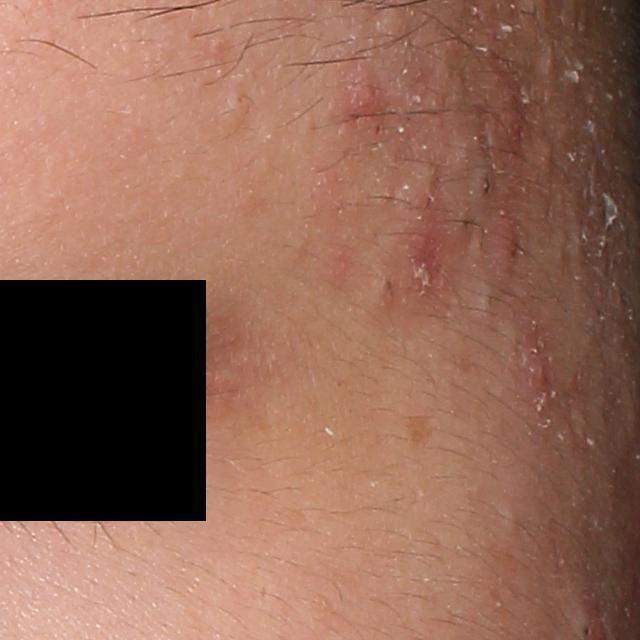melasma: (408, 409, 441, 453)
papule: (488, 101, 533, 161), (488, 215, 527, 268), (344, 79, 382, 115)
